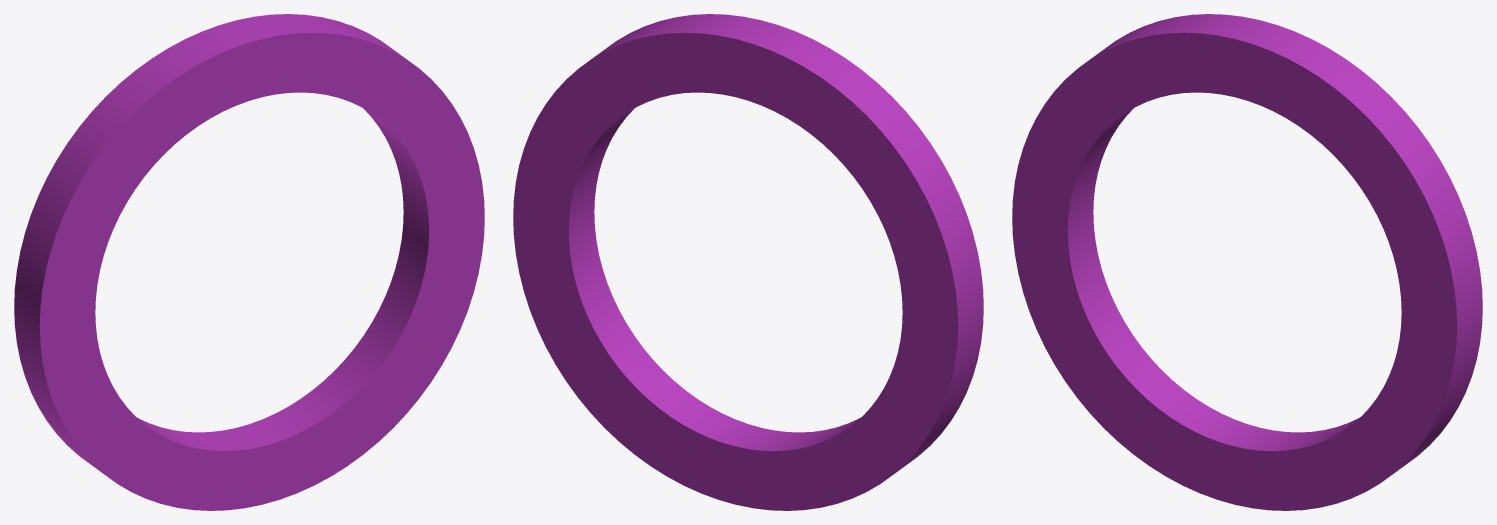
The model's file is Hoop.fbx.
The picture shows the model from 3 angles, left to right: view 1: azimuth 30°, elevation 25°; view 2: azimuth 150°, elevation 25°; view 3: azimuth 330°, elevation 25°; orthographic projection.
Visible parts, largest first — view 1: root; view 2: root; view 3: root.
Boxes of the visible parts, left/top/right/bottom form: root: left=14, top=14, right=484, bottom=510; root: left=513, top=14, right=983, bottom=510; root: left=1012, top=14, right=1482, bottom=510.
Size of the model in its own units: 0.8085 by 0.8085 by 0.0806.
1 material, 1 textured.
